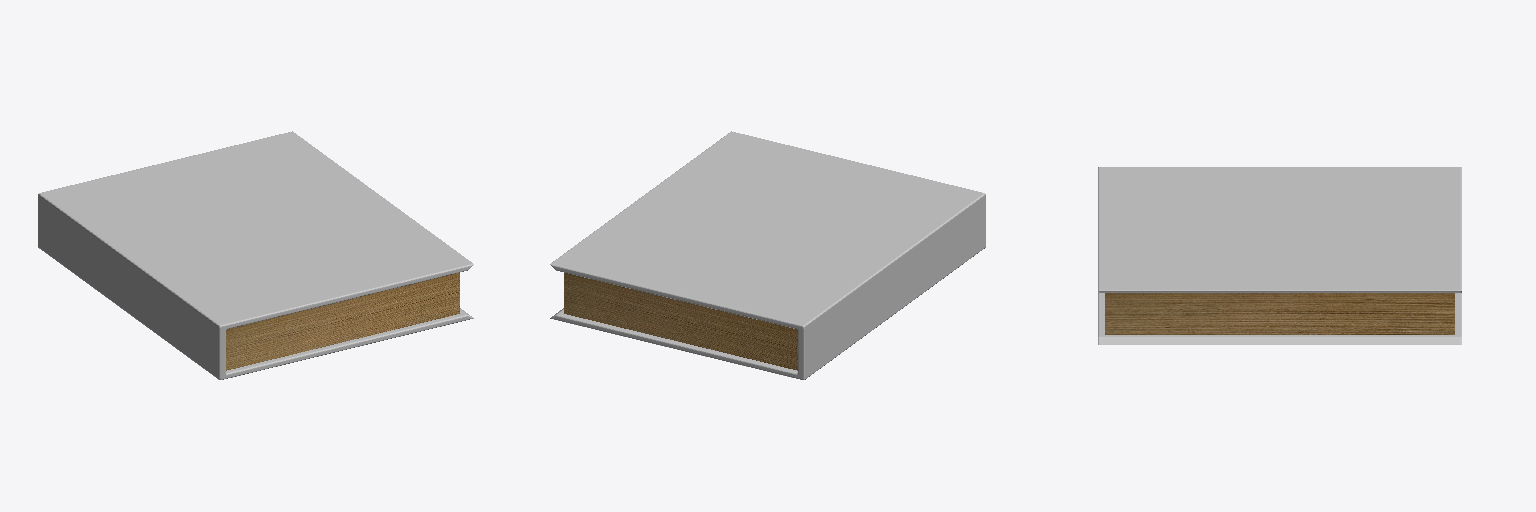
3 views of the same model, side by side, from view 1: azimuth 30°, elevation 25°; view 2: azimuth 150°, elevation 25°; view 3: azimuth 270°, elevation 25° (orthographic).
Parts seen in each view (by area): view 1: 立方体.1, 立方体.2; view 2: 立方体.1, 立方体.2; view 3: 立方体.1, 立方体.2.
Boxes of the visible parts, x1=… form: 立方体.1: x1=38, y1=131, x2=473, y2=379; 立方体.2: x1=226, y1=273, x2=459, y2=370; 立方体.1: x1=550, y1=131, x2=985, y2=379; 立方体.2: x1=564, y1=273, x2=797, y2=370; 立方体.1: x1=1098, y1=167, x2=1461, y2=344; 立方体.2: x1=1105, y1=293, x2=1454, y2=334.
Size of the model in its own units: 162 by 33.3 by 200.
Materials: 2 (1 with a texture image).